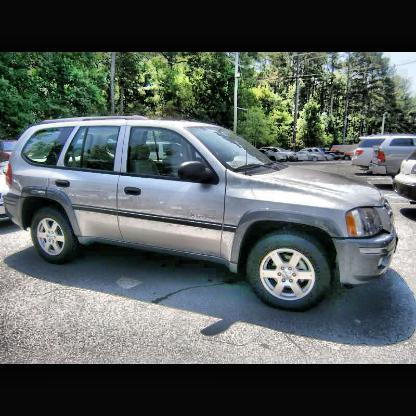Isuzu Ascender SUV 2008: (7, 115, 399, 313)
